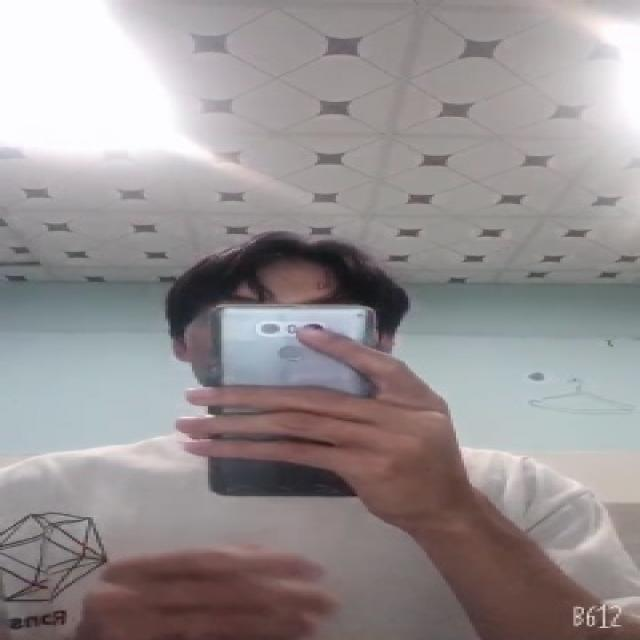Phone: (202, 302, 380, 506)
